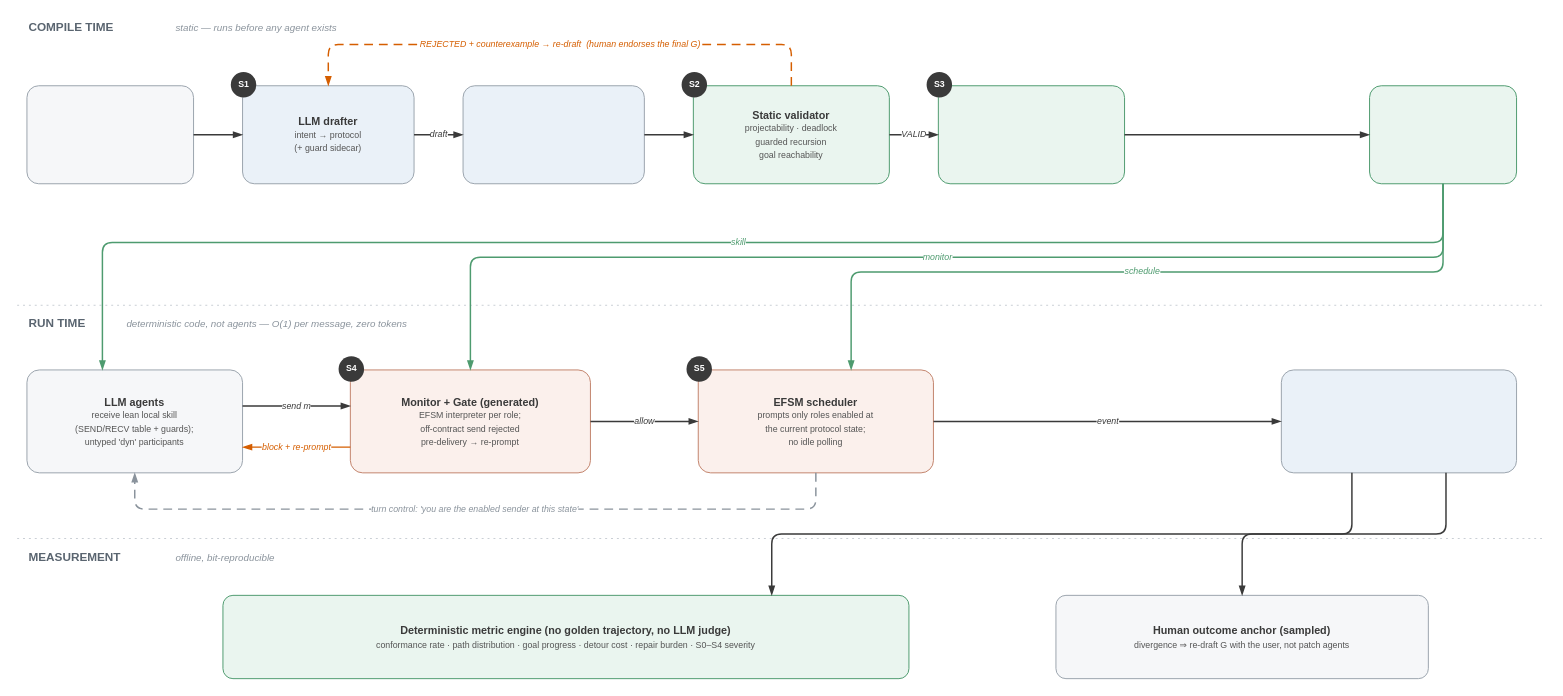
This 1563x696 diagram has some shape labels left out. The centre of each missing label's shape, as x and y in pixels:
"3 artifacts per role" goes at pixel 1443 134.
"Global type G Scribble .scr + .refn guards + goal markers" goes at pixel 553 134.
"Projection G↾Rᵢ one local type per role → EFSM" goes at pixel 1031 134.
"Typed event log role · state · branch · verdict · guard result · goal marker" goes at pixel 1398 421.
"User intent natural language task + policies" goes at pixel 110 134.
